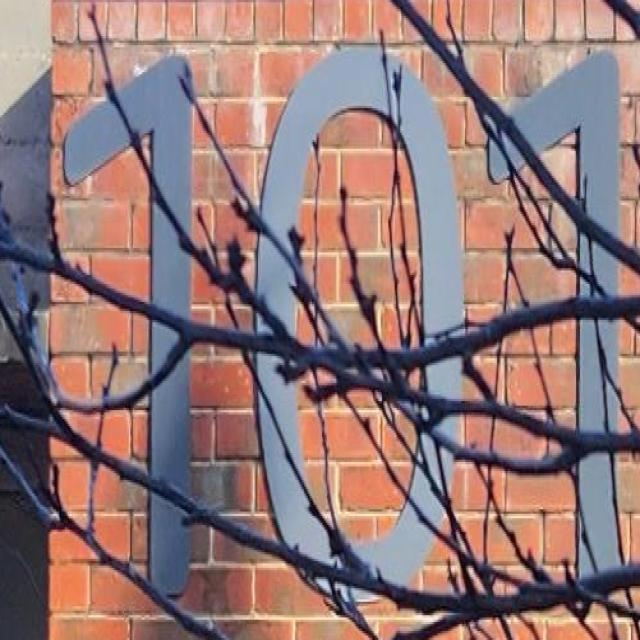character: (248, 37, 473, 612), (484, 41, 631, 610), (61, 44, 198, 606)
